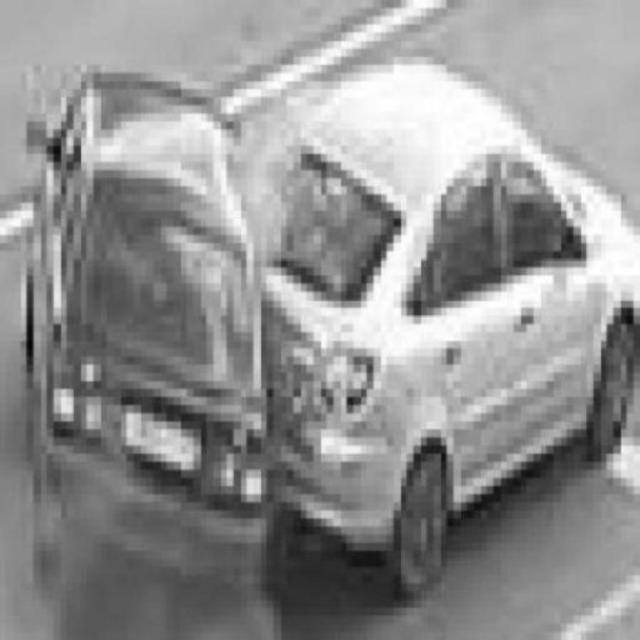accident: (33, 75, 637, 579)
